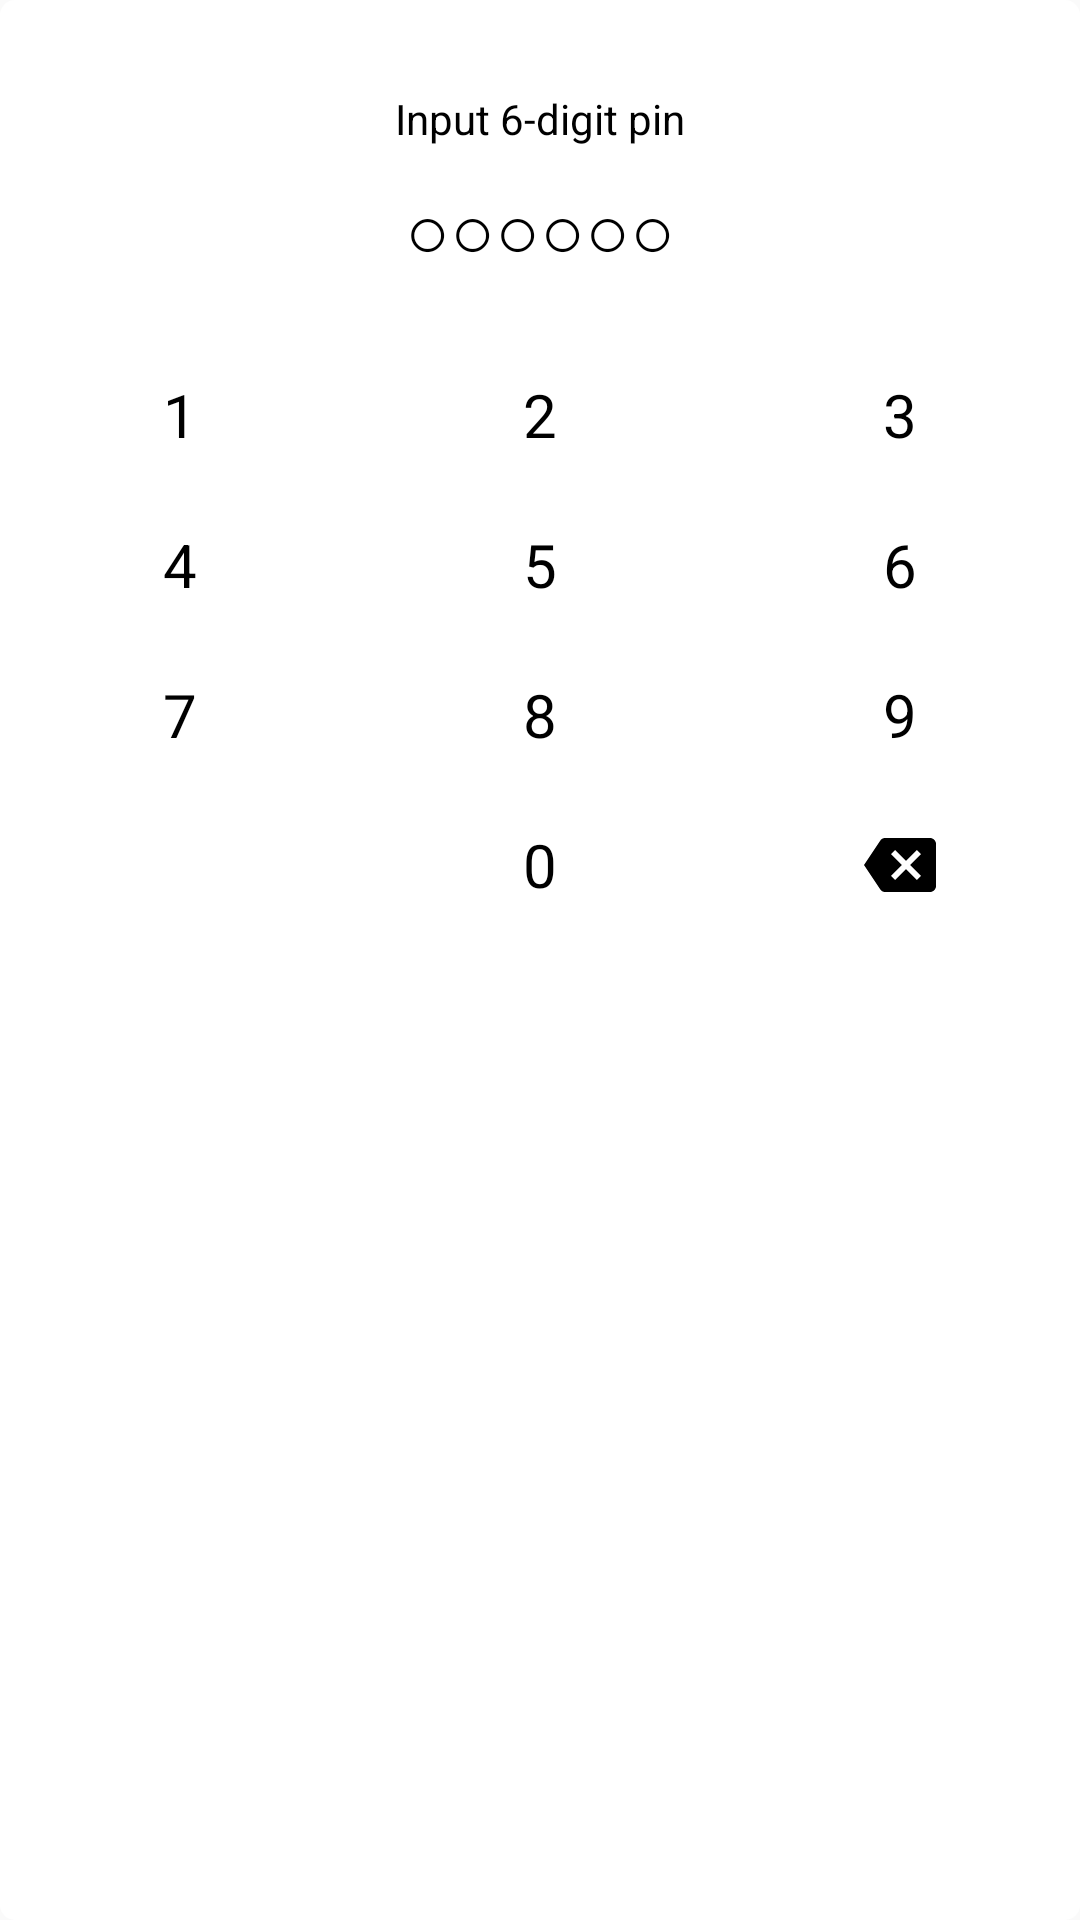

Named icons in this screenshot (1080px×1920px) and their centers, (x,y):
backspace: (900,865)
